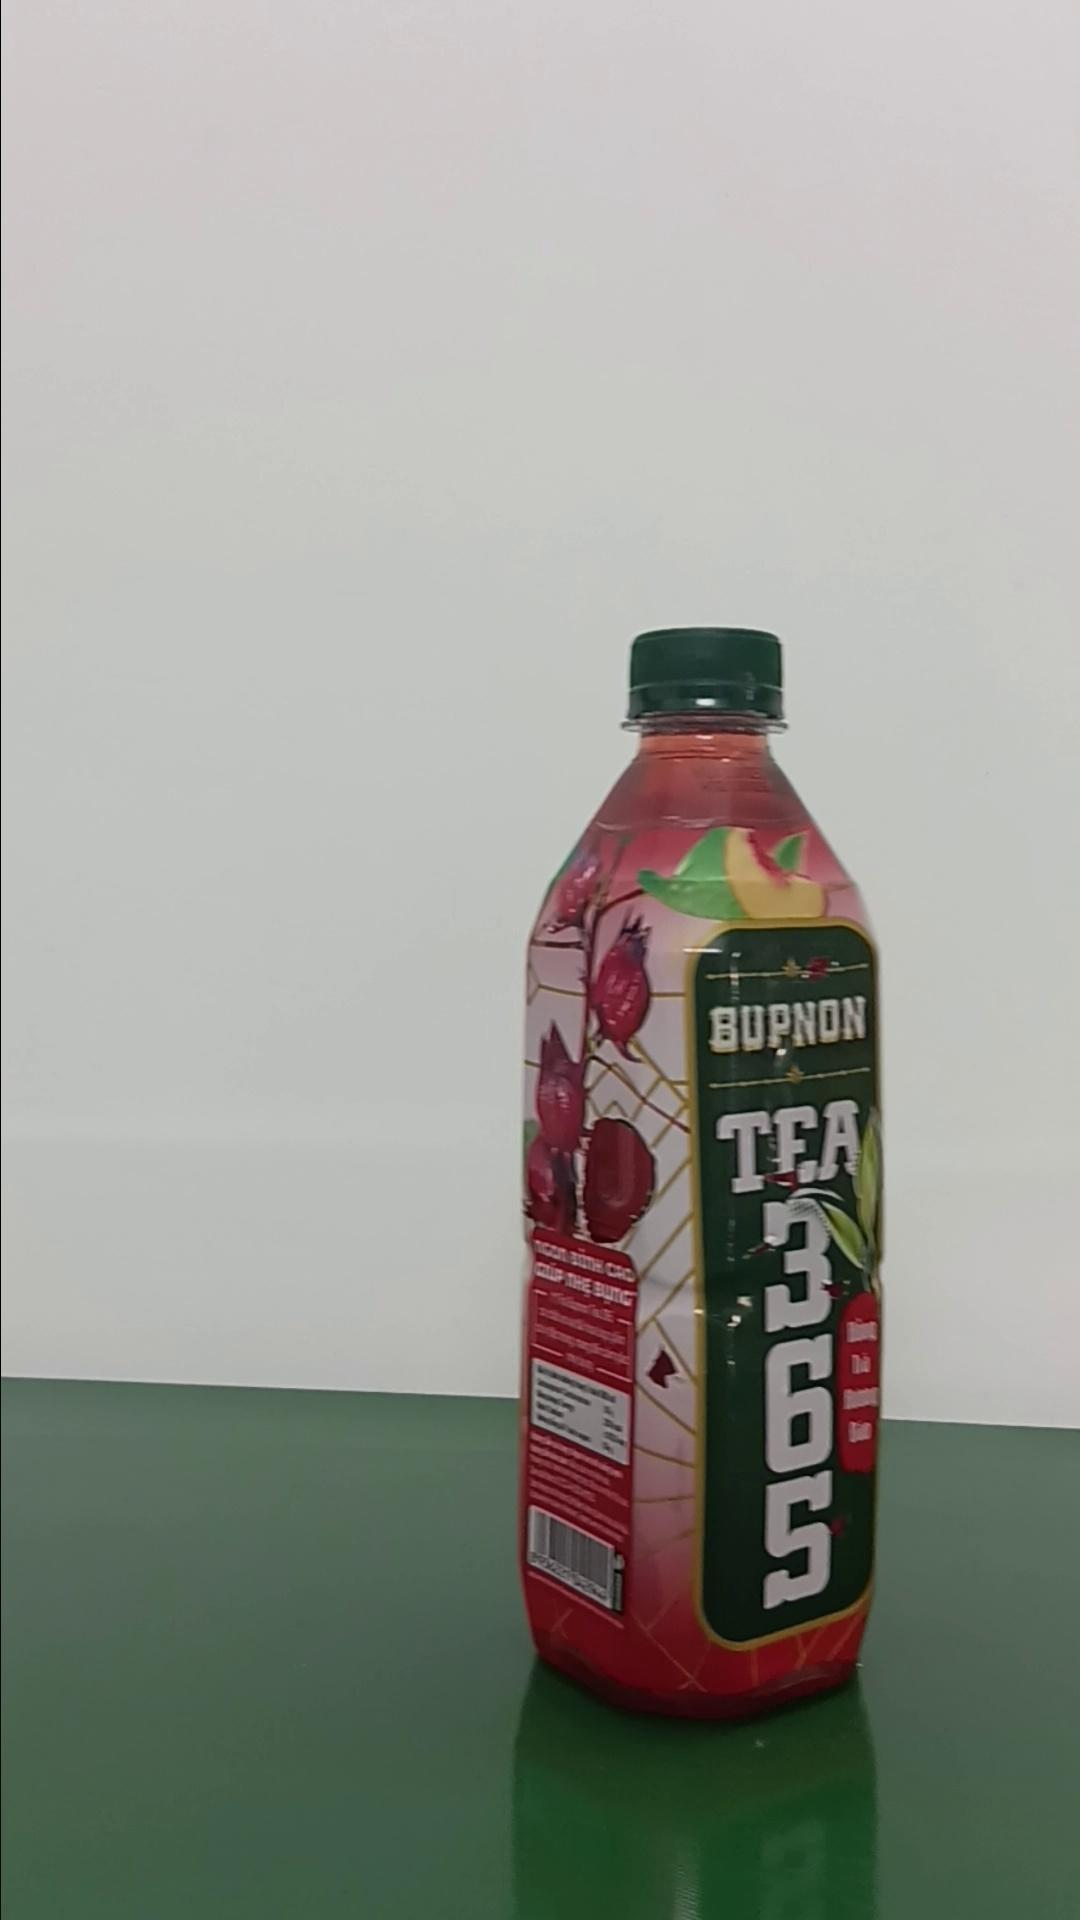loi rach va lap chai: (517, 622, 884, 1729)
